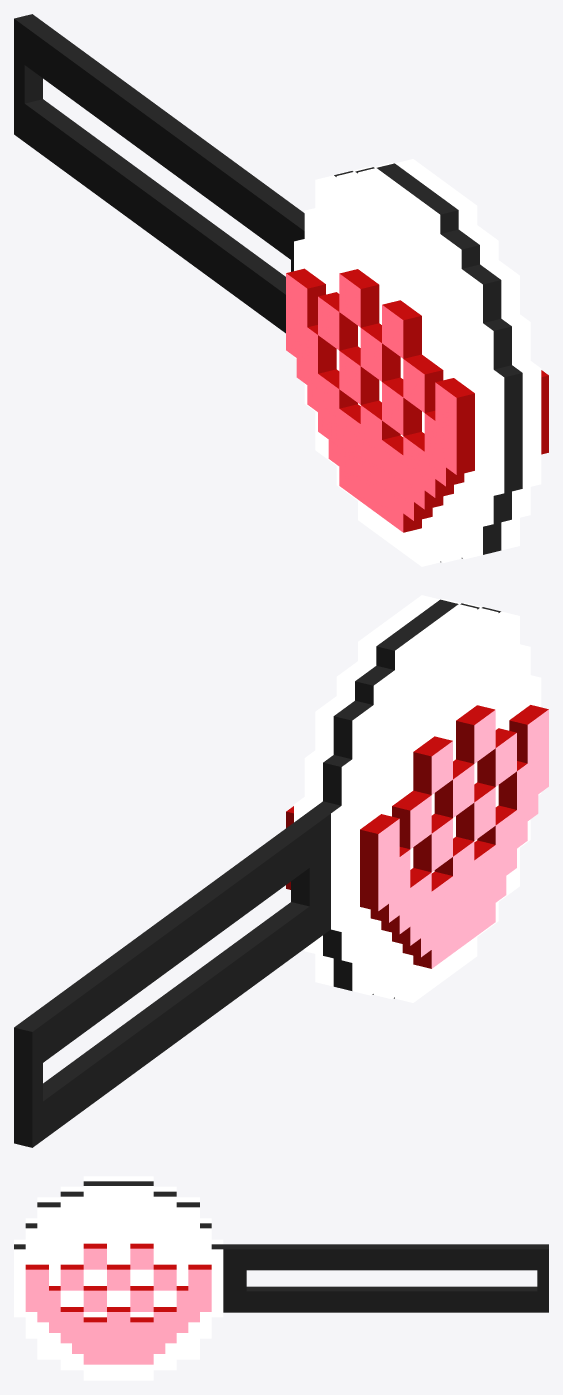
Rendered from artistAgencySign.glb.
3 views of the same model, one above another, from view 1: azimuth 30°, elevation 25°; view 2: azimuth 150°, elevation 25°; view 3: azimuth 270°, elevation 25° (orthographic). The views are drawn at different scales.
Visible parts, largest first — view 1: ObjObject; view 2: ObjObject; view 3: ObjObject.
Part boxes in pixels (<box>): ObjObject: <box>14,14,548,566</box>; ObjObject: <box>14,595,548,1147</box>; ObjObject: <box>14,1176,548,1380</box>.
Size of the model in its own units: 0.5 by 1.8 by 4.6.
3 materials, 1 textured.
